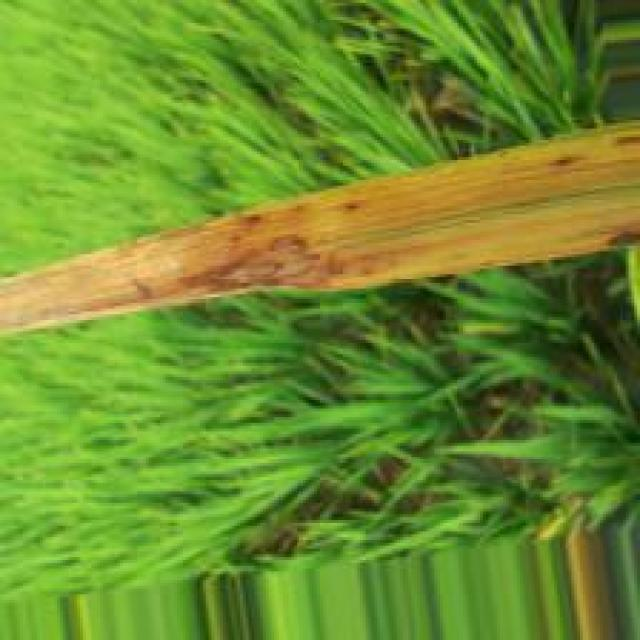Bacterial_Leaf_Blight: (0, 127, 639, 334)
